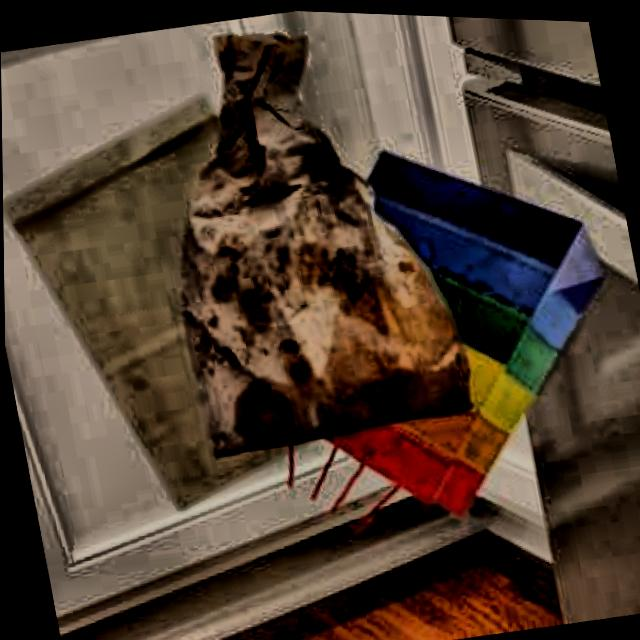Paper-bag: (209, 96, 640, 561), (122, 4, 489, 475)
